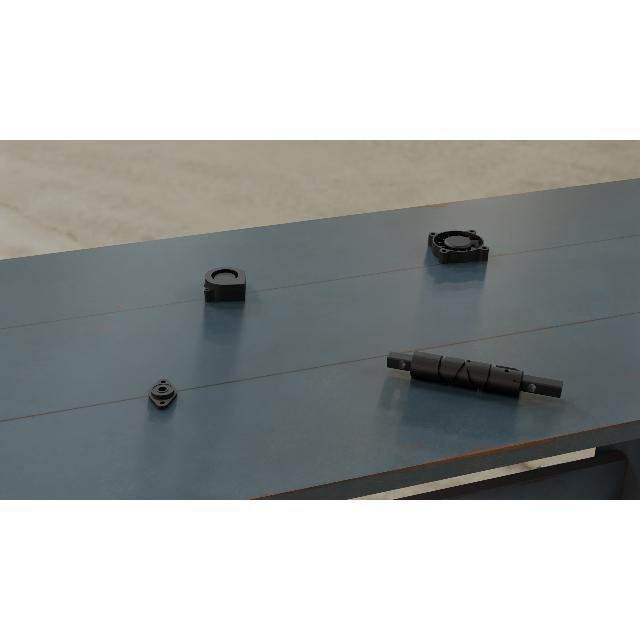Pieza1: (385, 342, 565, 408)
Pieza2: (146, 374, 178, 410)
Pieza3: (202, 266, 245, 302)
Pieza4: (426, 229, 492, 265)
